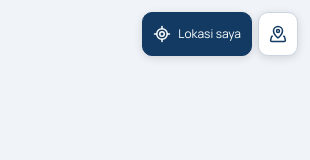
Scenario: device location › handles location error 1 without moving the map
Step 1. Click the button with aria-label "Pusatkan ke lokasi saya" → [197, 34], box [142,12,252,56]
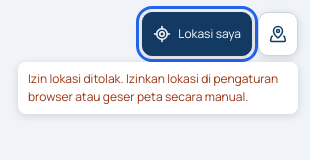
Now the message shows "Izin lokasi ditolak", box [28,70,278,105]
